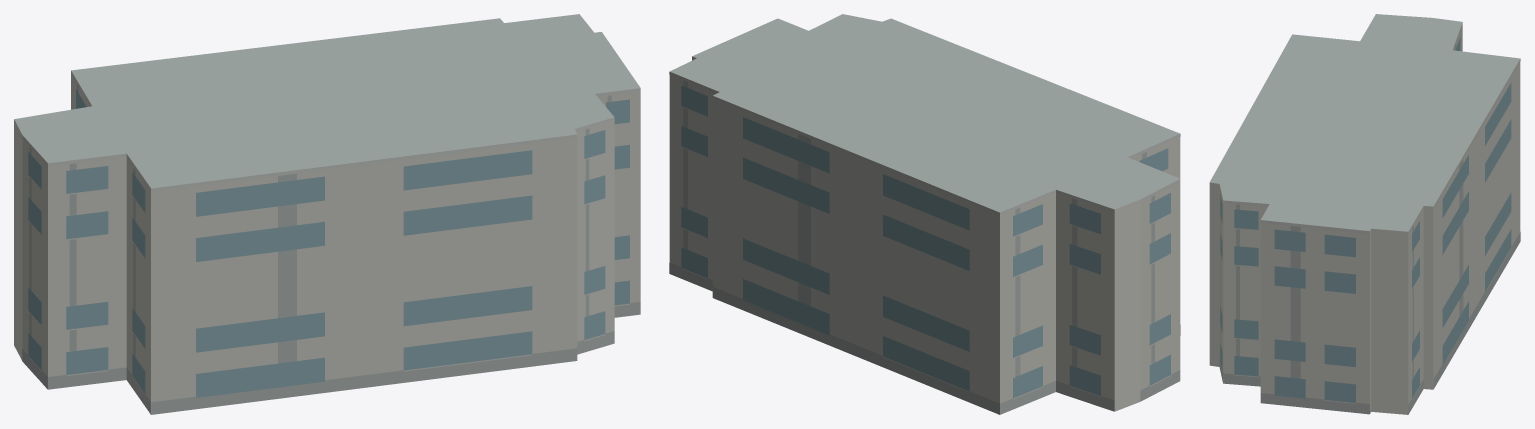
File: survey-upis-32603025.glb
3 renders of one model, left to right at view 1: azimuth 30°, elevation 25°; view 2: azimuth 150°, elevation 25°; view 3: azimuth 270°, elevation 25°, orthographic. The views are drawn at different scales.
Parts seen in each view (by area): view 1: survey-upis-32603025.tmp; view 2: survey-upis-32603025.tmp; view 3: survey-upis-32603025.tmp.
Boxes of the visible parts, x1,y1,x2,y2 form: survey-upis-32603025.tmp: (14, 14, 640, 414); survey-upis-32603025.tmp: (669, 14, 1180, 414); survey-upis-32603025.tmp: (1209, 14, 1520, 414).
Size of the model in its own units: 38.89 by 15.25 by 23.48.
